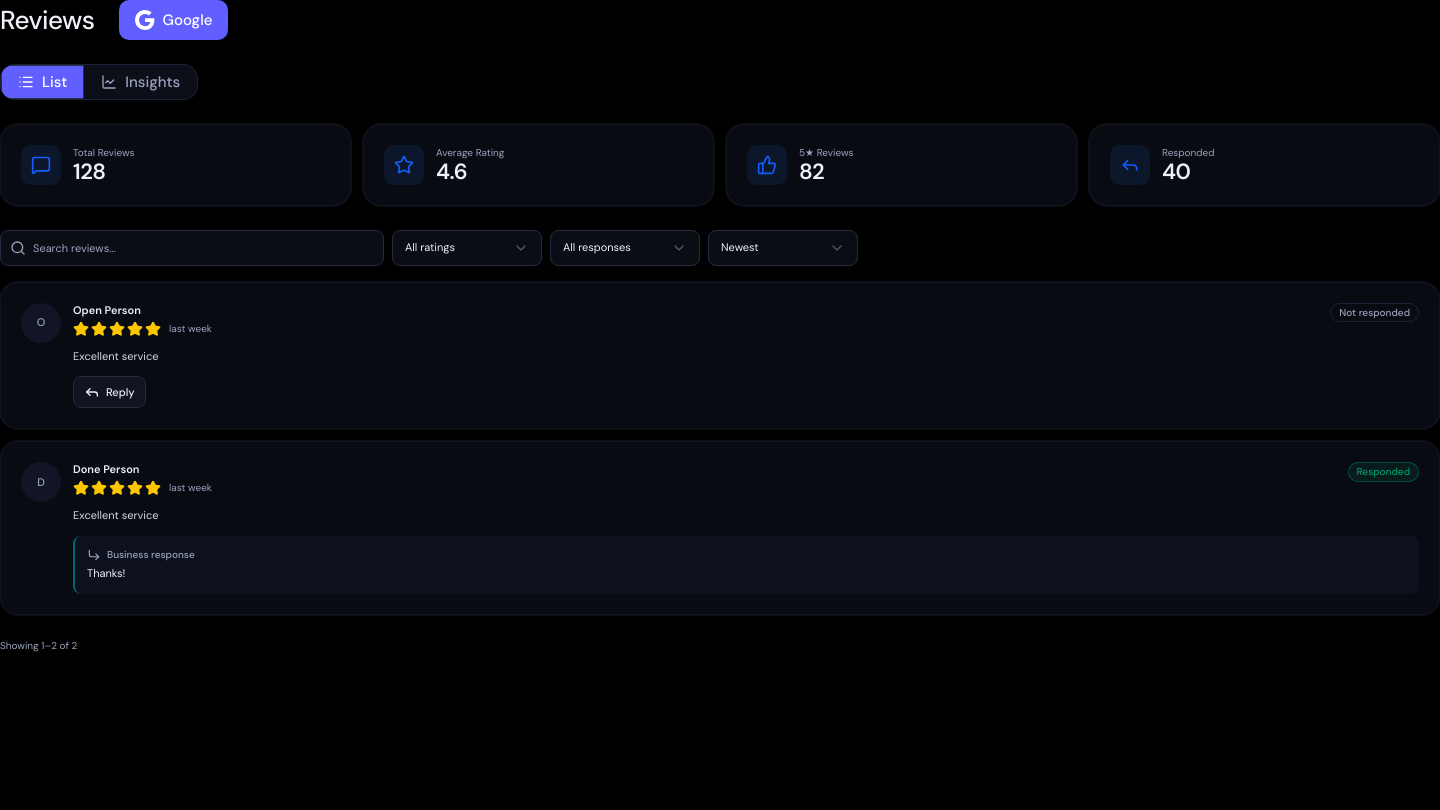
Business Profile Reviews page › reply flow › closes the composer after a successful reply
Click the button with aria-label "Reply to Open Person": (109, 392) [73,376,146,408]
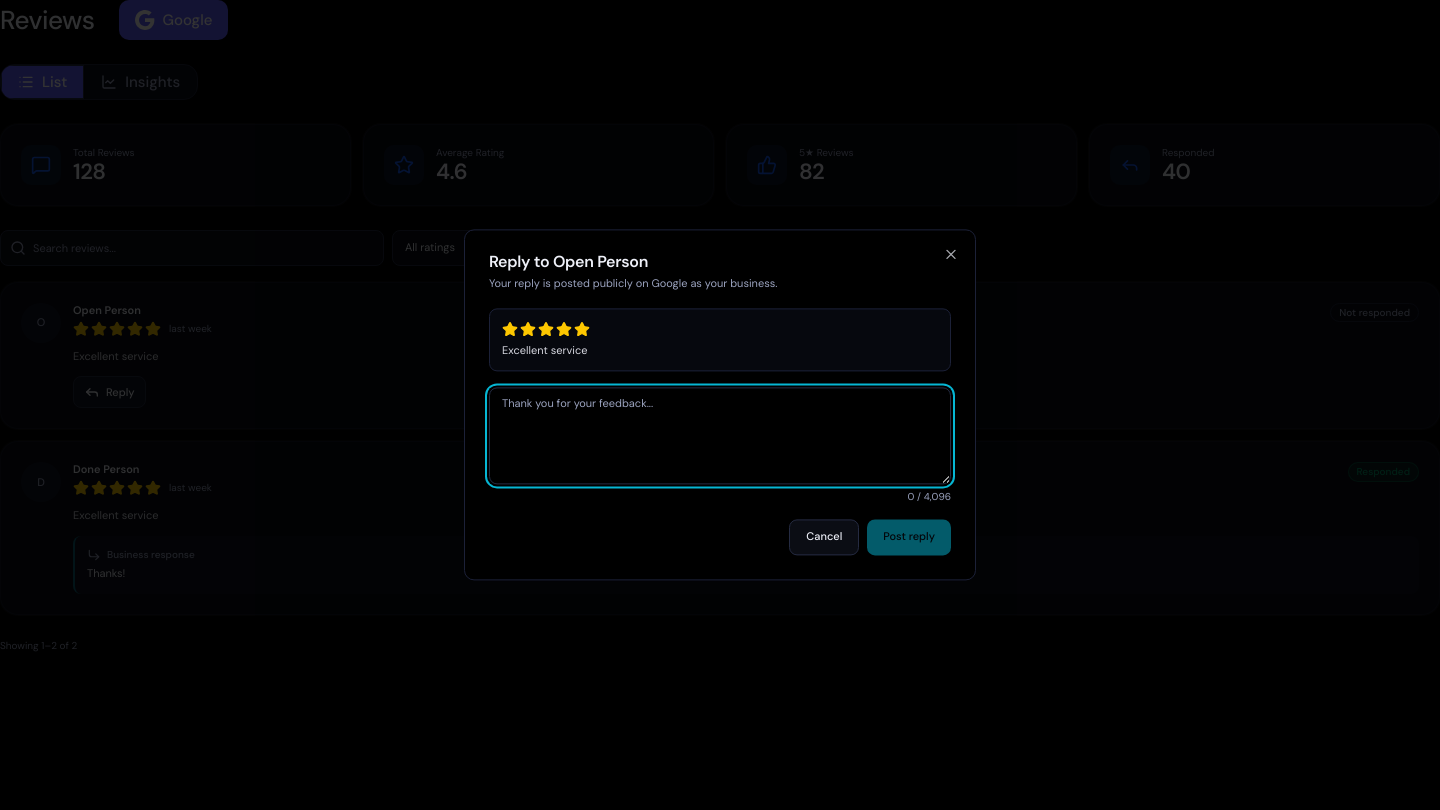
In the text box named "Your reply to Open Person": (720, 436) [489,388,951,484], type "Thanks!"
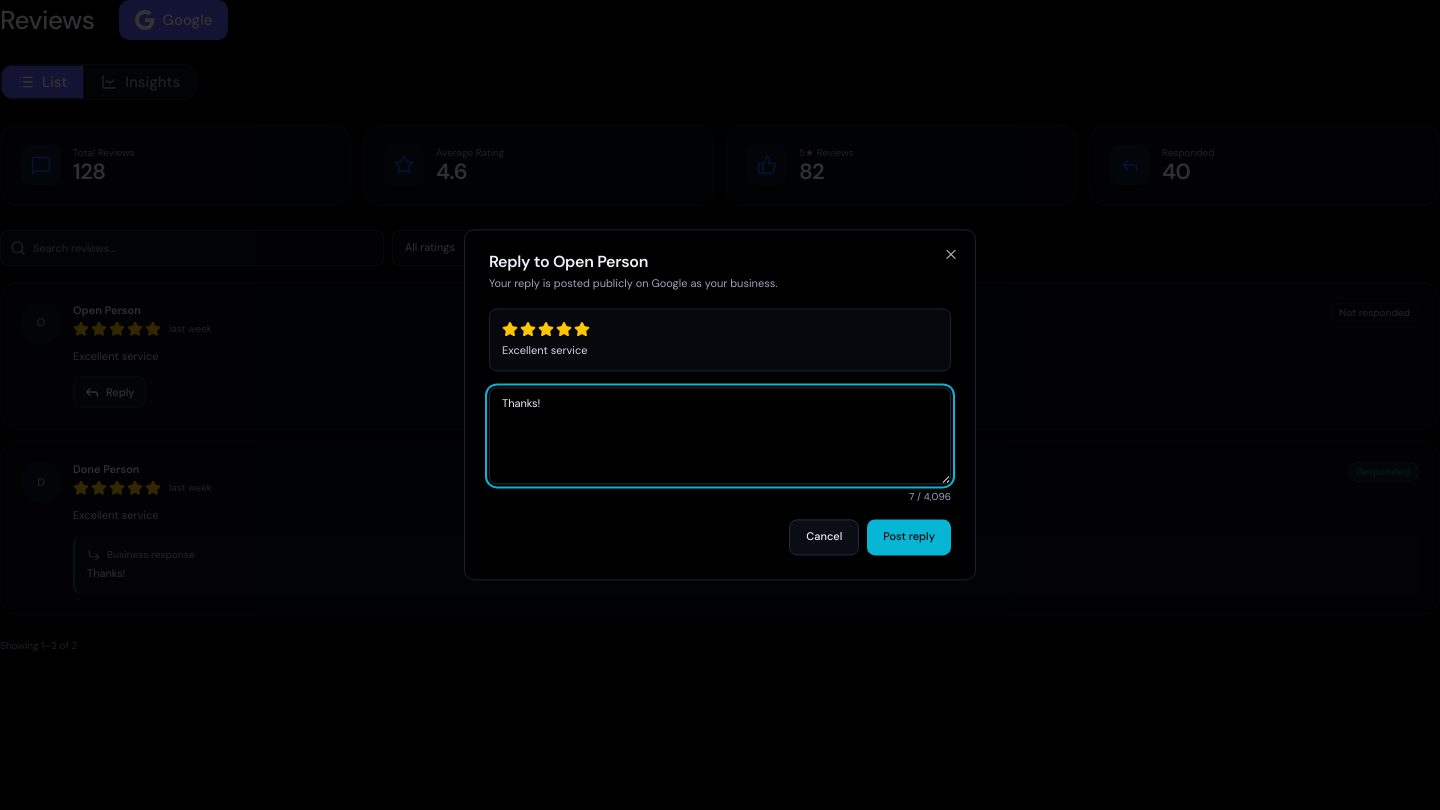
Click the button "Post reply": (909, 538) [867,520,951,556]
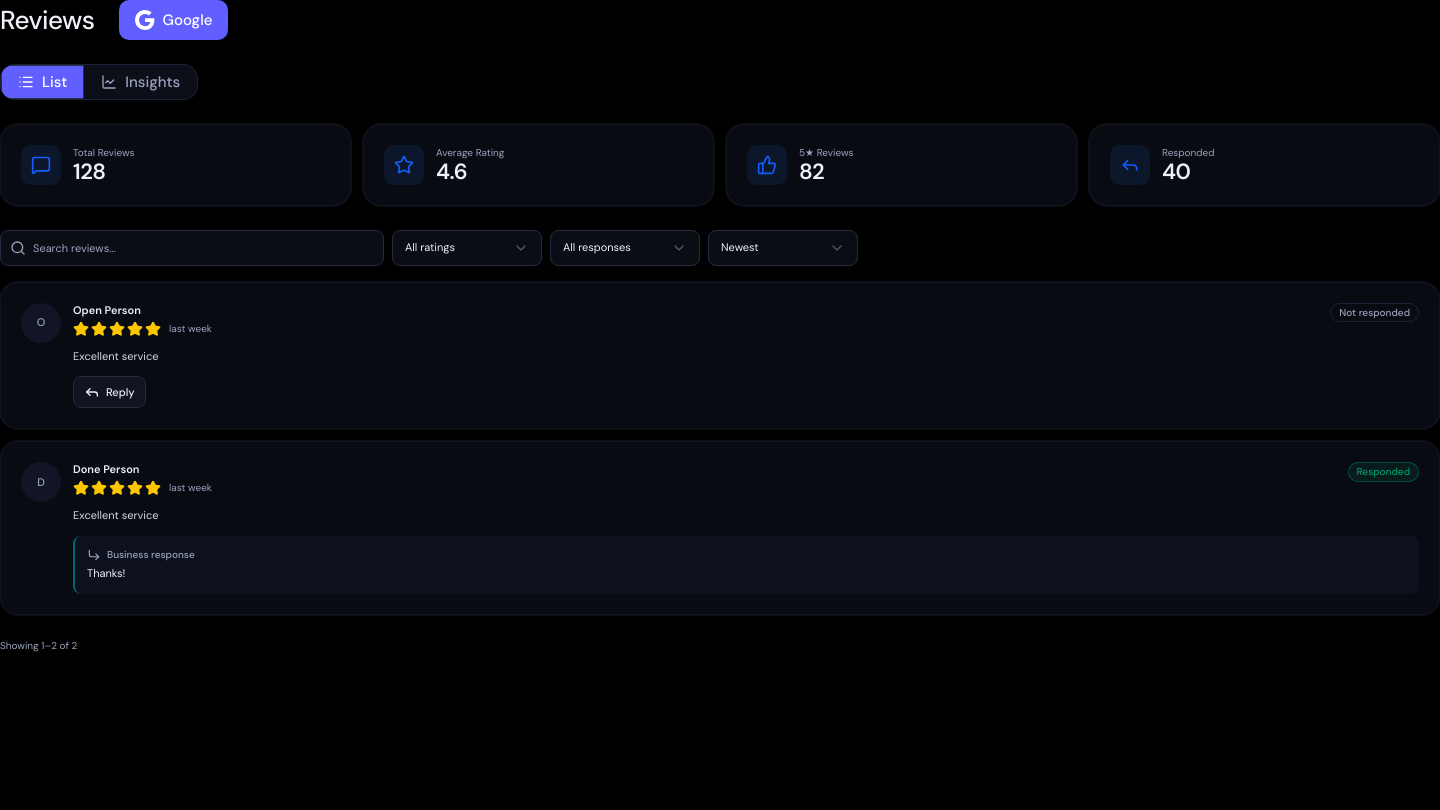
Expected: the heading "Reply to Open Person" is gone
